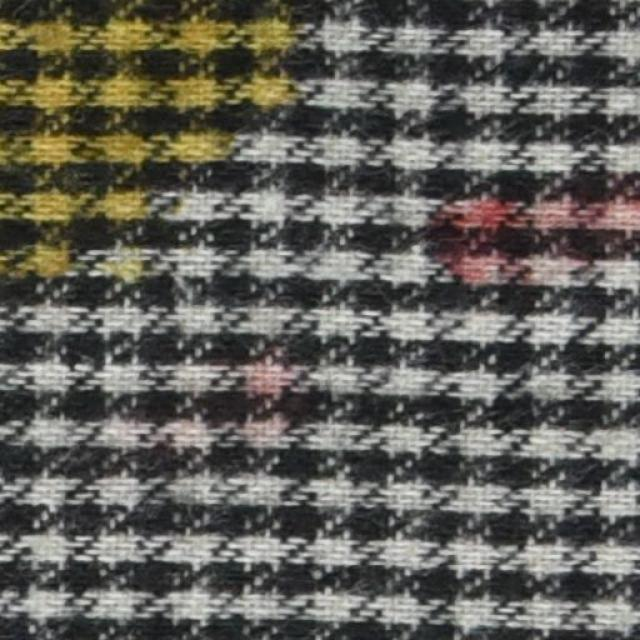Stain: (0, 1, 301, 296), (426, 178, 639, 304), (239, 354, 293, 421)
